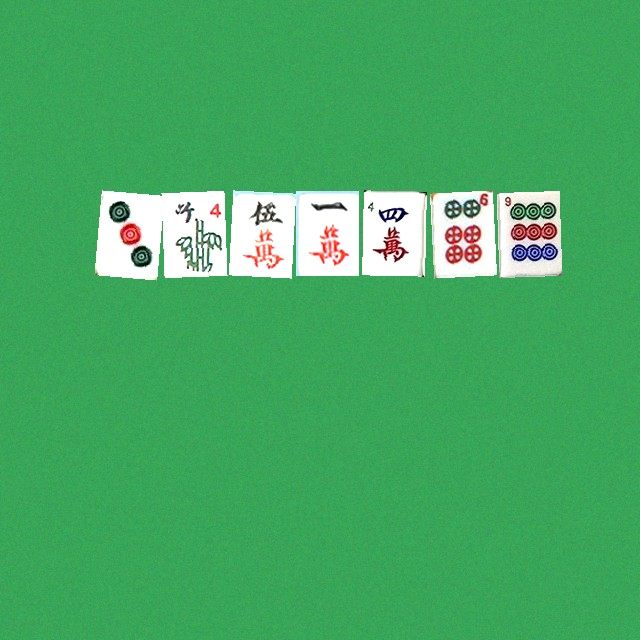tile: (94, 190, 157, 275), (161, 190, 224, 275), (228, 190, 291, 275), (295, 190, 358, 275), (362, 190, 425, 275), (429, 190, 492, 275), (496, 190, 559, 275)
